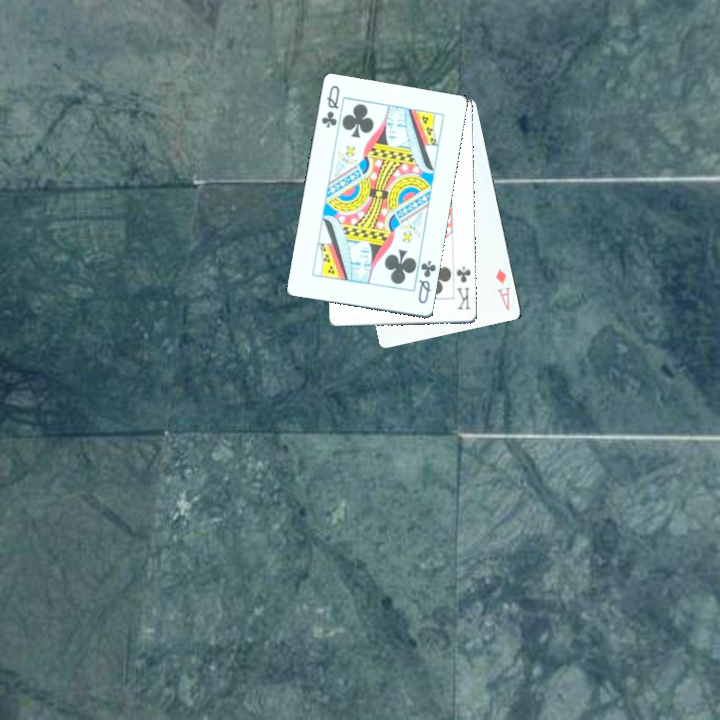Ad: (491, 265, 513, 313)
Kc: (452, 262, 473, 312)
Qc: (317, 81, 348, 137), (405, 253, 437, 306)
